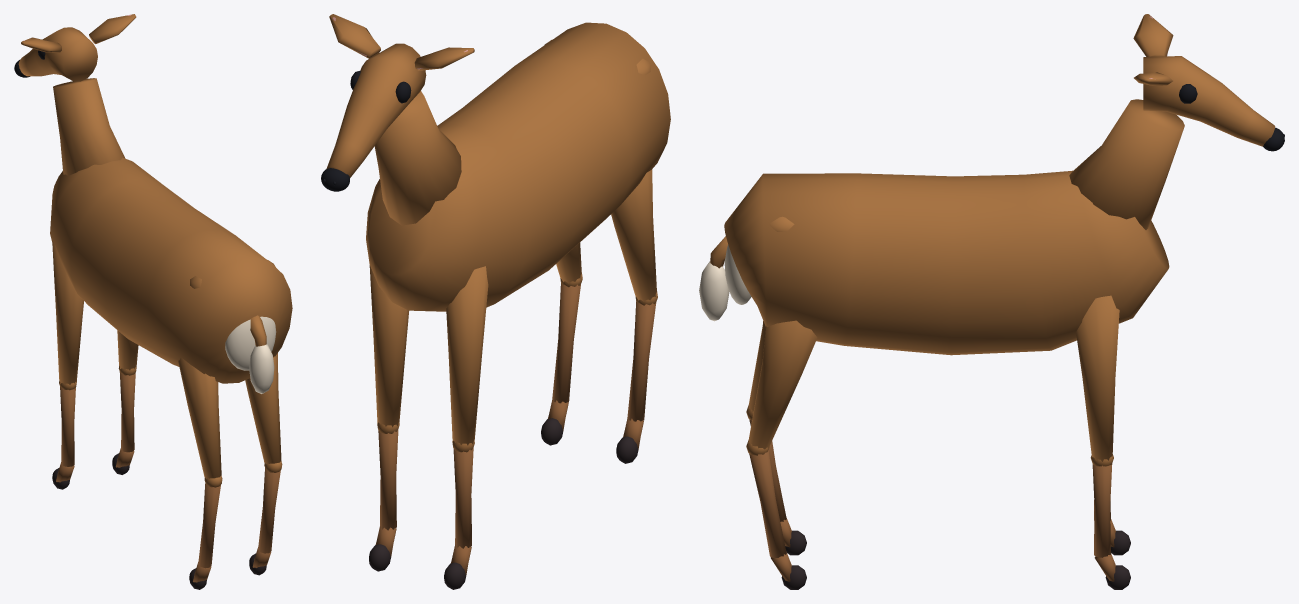
File: beast_doe.glb
3 renders of one model, left to right at view 1: azimuth 30°, elevation 25°; view 2: azimuth 150°, elevation 25°; view 3: azimuth 270°, elevation 25°, orthographic. The views are drawn at different scales.
Visible parts, largest first — view 1: body, neck, leg_br, leg_fr, head, leg_bl, shin_bl, shin_br, shin_fr, shin_fl, tail, leg_fl (+2 smaller); view 2: body, neck, head, leg_fr, leg_fl, leg_br, shin_bl, shin_br, shin_fl, shin_fr, ear_l, ear_r (+1 smaller); view 3: body, neck, head, leg_fl, leg_bl, shin_bl, shin_fl, tail, ear_r, shin_br.
Boxes of the visible parts, bbox=[...] form: body: bbox=[50, 157, 292, 383]; neck: bbox=[53, 78, 125, 175]; leg_br: bbox=[178, 357, 222, 487]; leg_fr: bbox=[52, 240, 83, 390]; head: bbox=[14, 27, 97, 81]; leg_bl: bbox=[245, 353, 282, 472]; shin_bl: bbox=[249, 468, 280, 575]; shin_br: bbox=[189, 483, 220, 589]; shin_fr: bbox=[52, 386, 75, 489]; shin_fl: bbox=[112, 371, 135, 474]; tail: bbox=[249, 315, 274, 393]; leg_fl: bbox=[117, 330, 138, 375]; body: bbox=[366, 22, 670, 311]; neck: bbox=[374, 91, 461, 225]; head: bbox=[321, 43, 426, 191]; leg_fr: bbox=[446, 266, 488, 452]; leg_fl: bbox=[369, 265, 408, 433]; leg_br: bbox=[611, 169, 657, 305]; shin_bl: bbox=[541, 283, 580, 445]; shin_br: bbox=[616, 301, 656, 463]; shin_fl: bbox=[369, 428, 398, 571]; shin_fr: bbox=[444, 447, 473, 589]; ear_l: bbox=[329, 14, 380, 58]; ear_r: bbox=[414, 47, 474, 70]; body: bbox=[724, 170, 1169, 355]; neck: bbox=[1069, 99, 1184, 229]; head: bbox=[1143, 56, 1284, 151]; leg_fl: bbox=[1076, 295, 1119, 466]; leg_bl: bbox=[746, 320, 817, 455]; shin_bl: bbox=[749, 450, 806, 589]; shin_fl: bbox=[1092, 464, 1130, 589]; tail: bbox=[699, 236, 729, 321]; ear_r: bbox=[1133, 14, 1173, 56]; shin_br: bbox=[749, 419, 806, 555].
Size of the model in its own units: 0.46 by 1.71 by 1.72.
